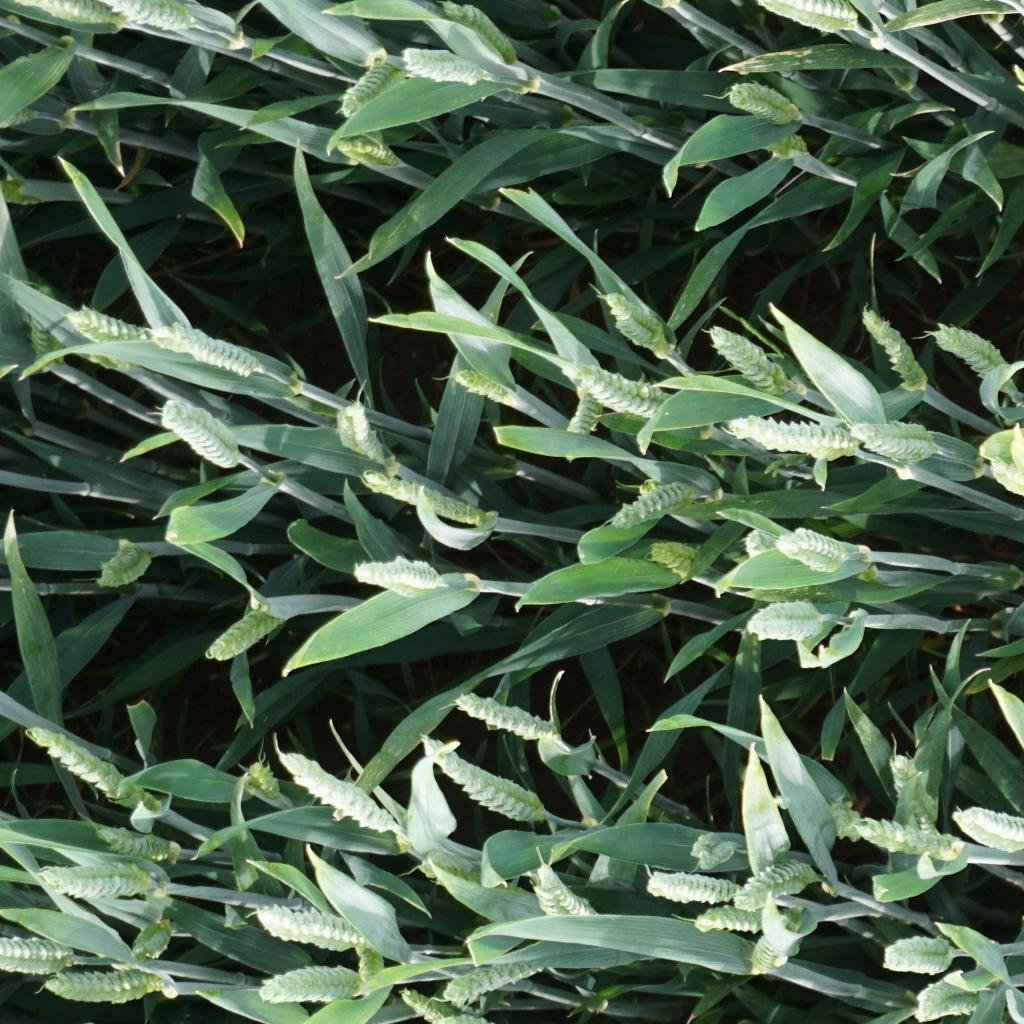0-0: (418, 730, 547, 822), (274, 749, 407, 834), (30, 723, 135, 799), (406, 846, 523, 907), (360, 467, 487, 523), (160, 396, 251, 471), (151, 324, 263, 379), (707, 322, 790, 395), (729, 409, 852, 458), (443, 952, 551, 1006), (852, 809, 965, 860), (572, 358, 669, 417), (862, 303, 922, 391), (253, 903, 366, 948), (397, 990, 546, 1024), (207, 600, 285, 664), (250, 965, 368, 1007), (39, 965, 166, 1004), (436, 2, 512, 67), (602, 282, 672, 351), (34, 862, 167, 898), (935, 320, 1007, 386), (736, 850, 816, 909), (68, 304, 169, 350), (24, 276, 69, 377), (457, 692, 552, 739), (537, 854, 599, 924), (609, 476, 692, 528), (909, 967, 984, 1024), (340, 62, 413, 118), (352, 555, 451, 596), (770, 525, 852, 573), (747, 596, 828, 643), (645, 867, 745, 905), (750, 0, 861, 34), (850, 416, 936, 459), (400, 47, 504, 82), (729, 77, 808, 123), (751, 907, 806, 972), (949, 807, 1024, 854), (884, 933, 957, 977), (565, 386, 608, 458), (445, 364, 517, 406), (890, 754, 929, 830), (0, 936, 76, 974), (94, 822, 168, 860), (94, 541, 152, 588), (98, 0, 195, 28), (336, 400, 378, 458), (337, 136, 402, 169), (17, 0, 124, 19), (692, 904, 766, 931), (131, 916, 178, 958), (650, 537, 699, 576), (762, 131, 814, 163), (741, 525, 780, 556), (827, 803, 858, 842), (246, 764, 278, 799)
